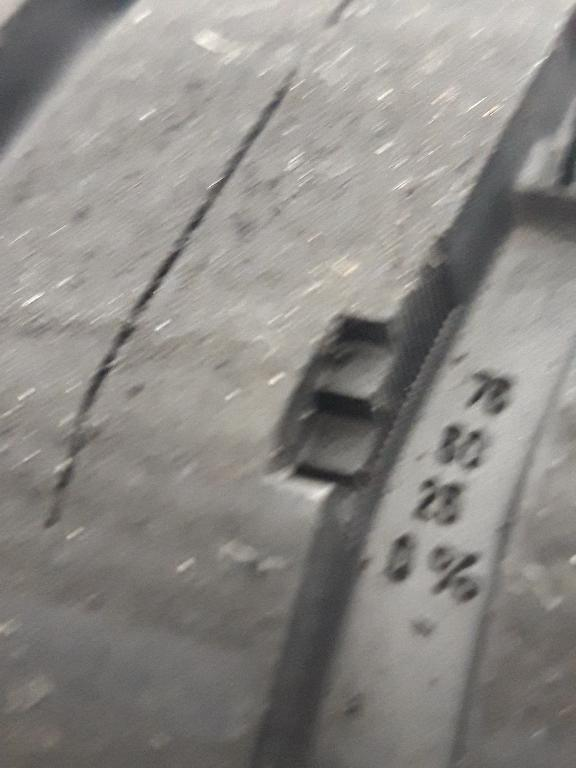temoin:75: (244, 256, 463, 580)
